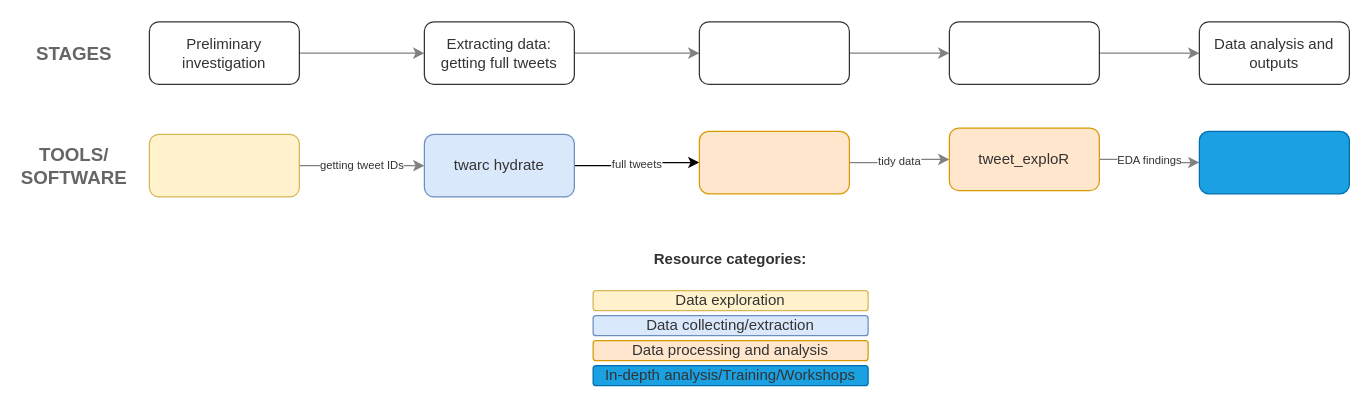
Some shapes in this 1371 by 408 pixel diagram are drawn without their labels. Each missing label, with the centre of its shape:
ADOReD: the point at 223,165
Data processing: tidy and process data: the point at 773,52
Exploratory data analysis: the point at 1023,52
Network analysis, etc.: the point at 1273,162
tidy_tweet: the point at 773,162
